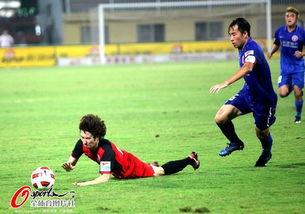down: (60, 112, 201, 187)
up: (207, 15, 275, 169), (270, 6, 305, 125)
